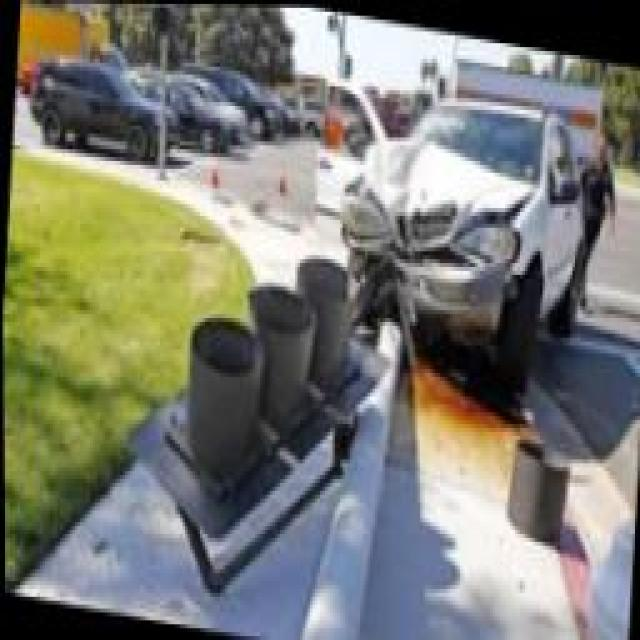Bonnet: (348, 126, 529, 233)
Bumper: (333, 227, 506, 356)
Light: (333, 178, 401, 244)
